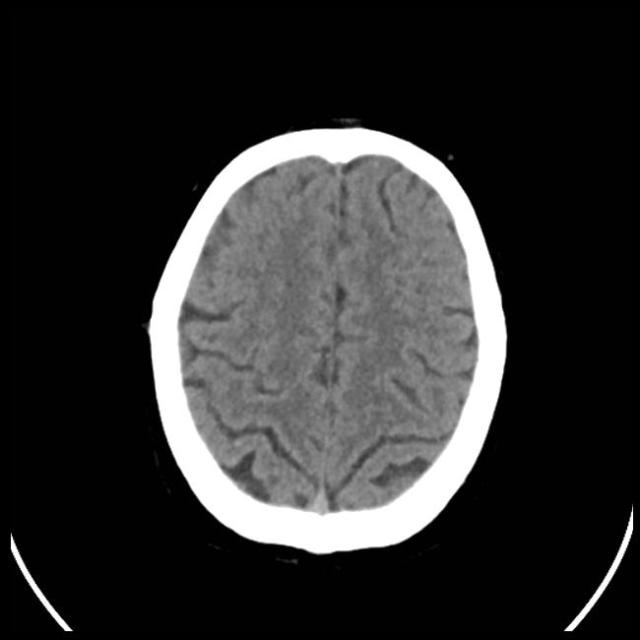lesion: (143, 118, 511, 557)
